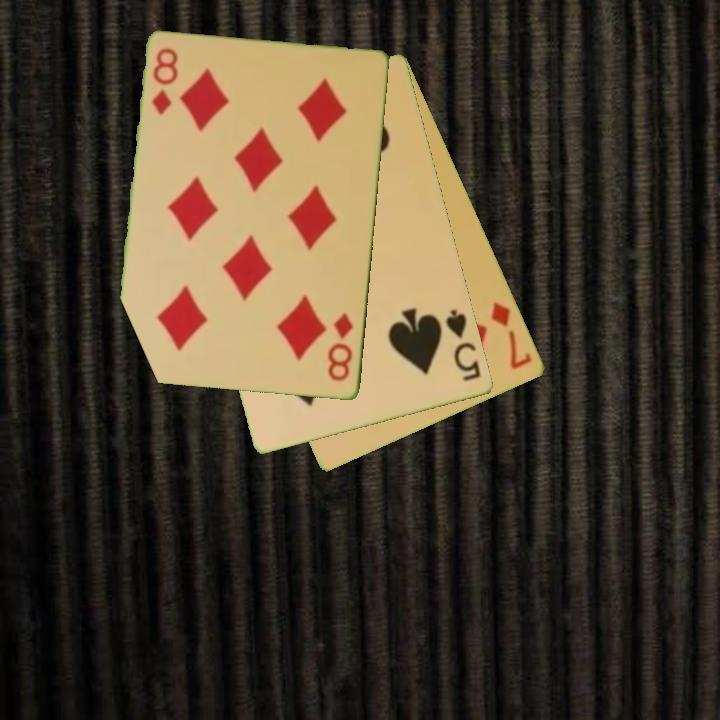5s: (442, 306, 485, 384)
7d: (488, 298, 536, 373)
8d: (324, 309, 356, 384), (149, 45, 180, 118)
